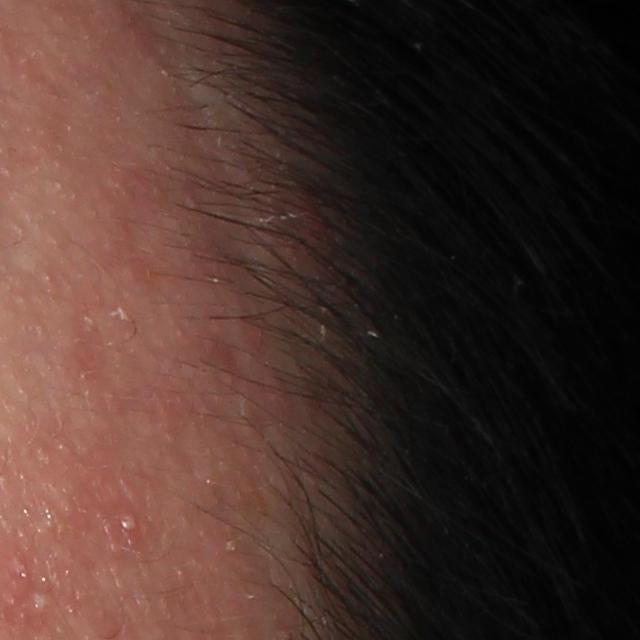pustule: (104, 497, 152, 558), (22, 586, 60, 622)
